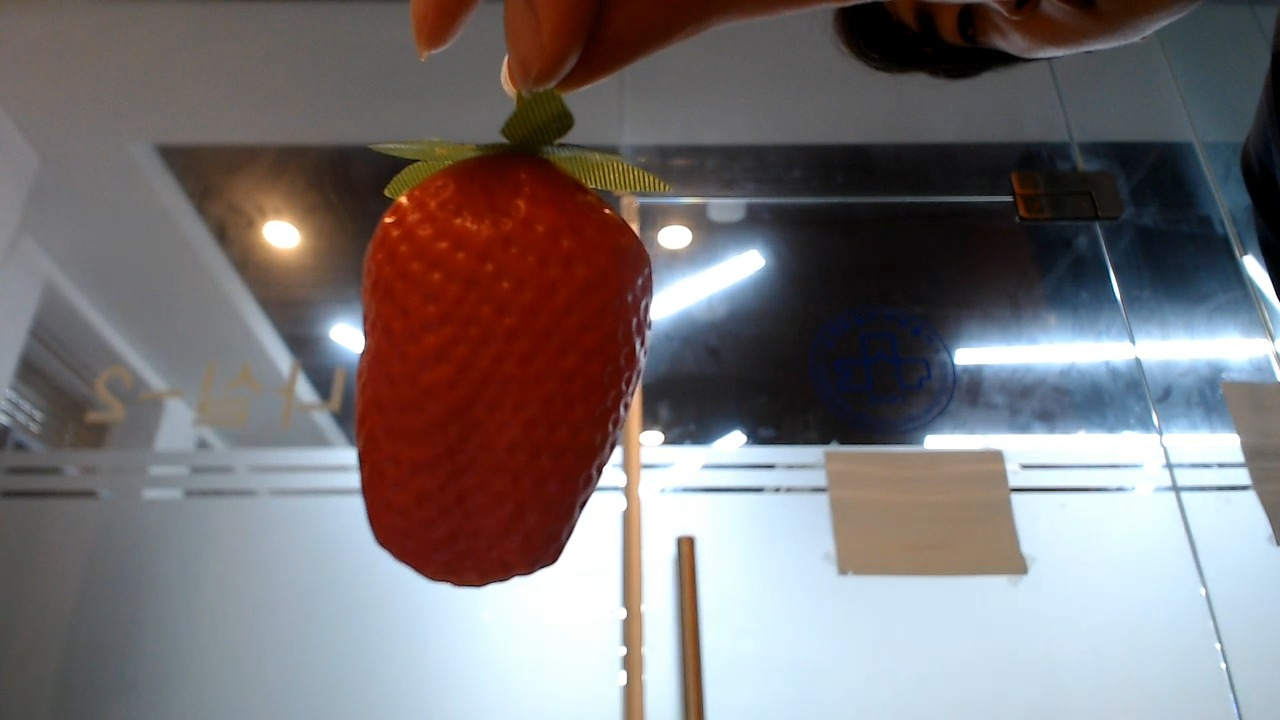strawberry: (351, 123, 678, 597)
